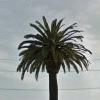Tree: (18, 10, 91, 93)
